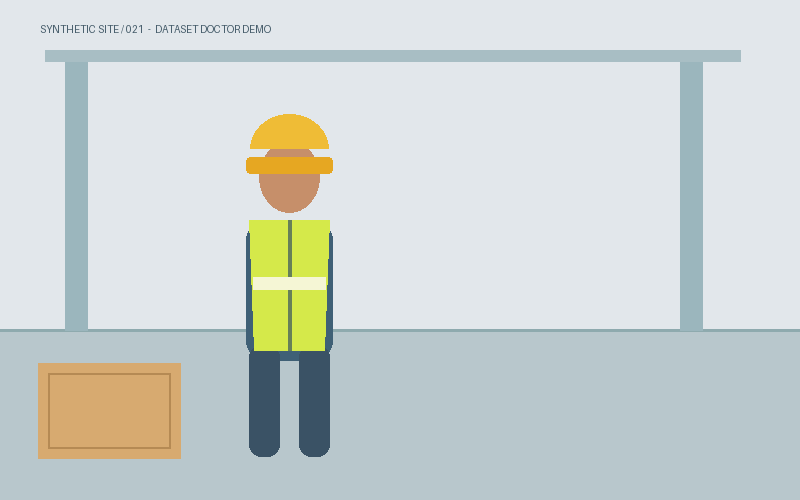Reflective-Jacket: (249, 220, 329, 350)
Safety-Helmet: (246, 127, 332, 173)
